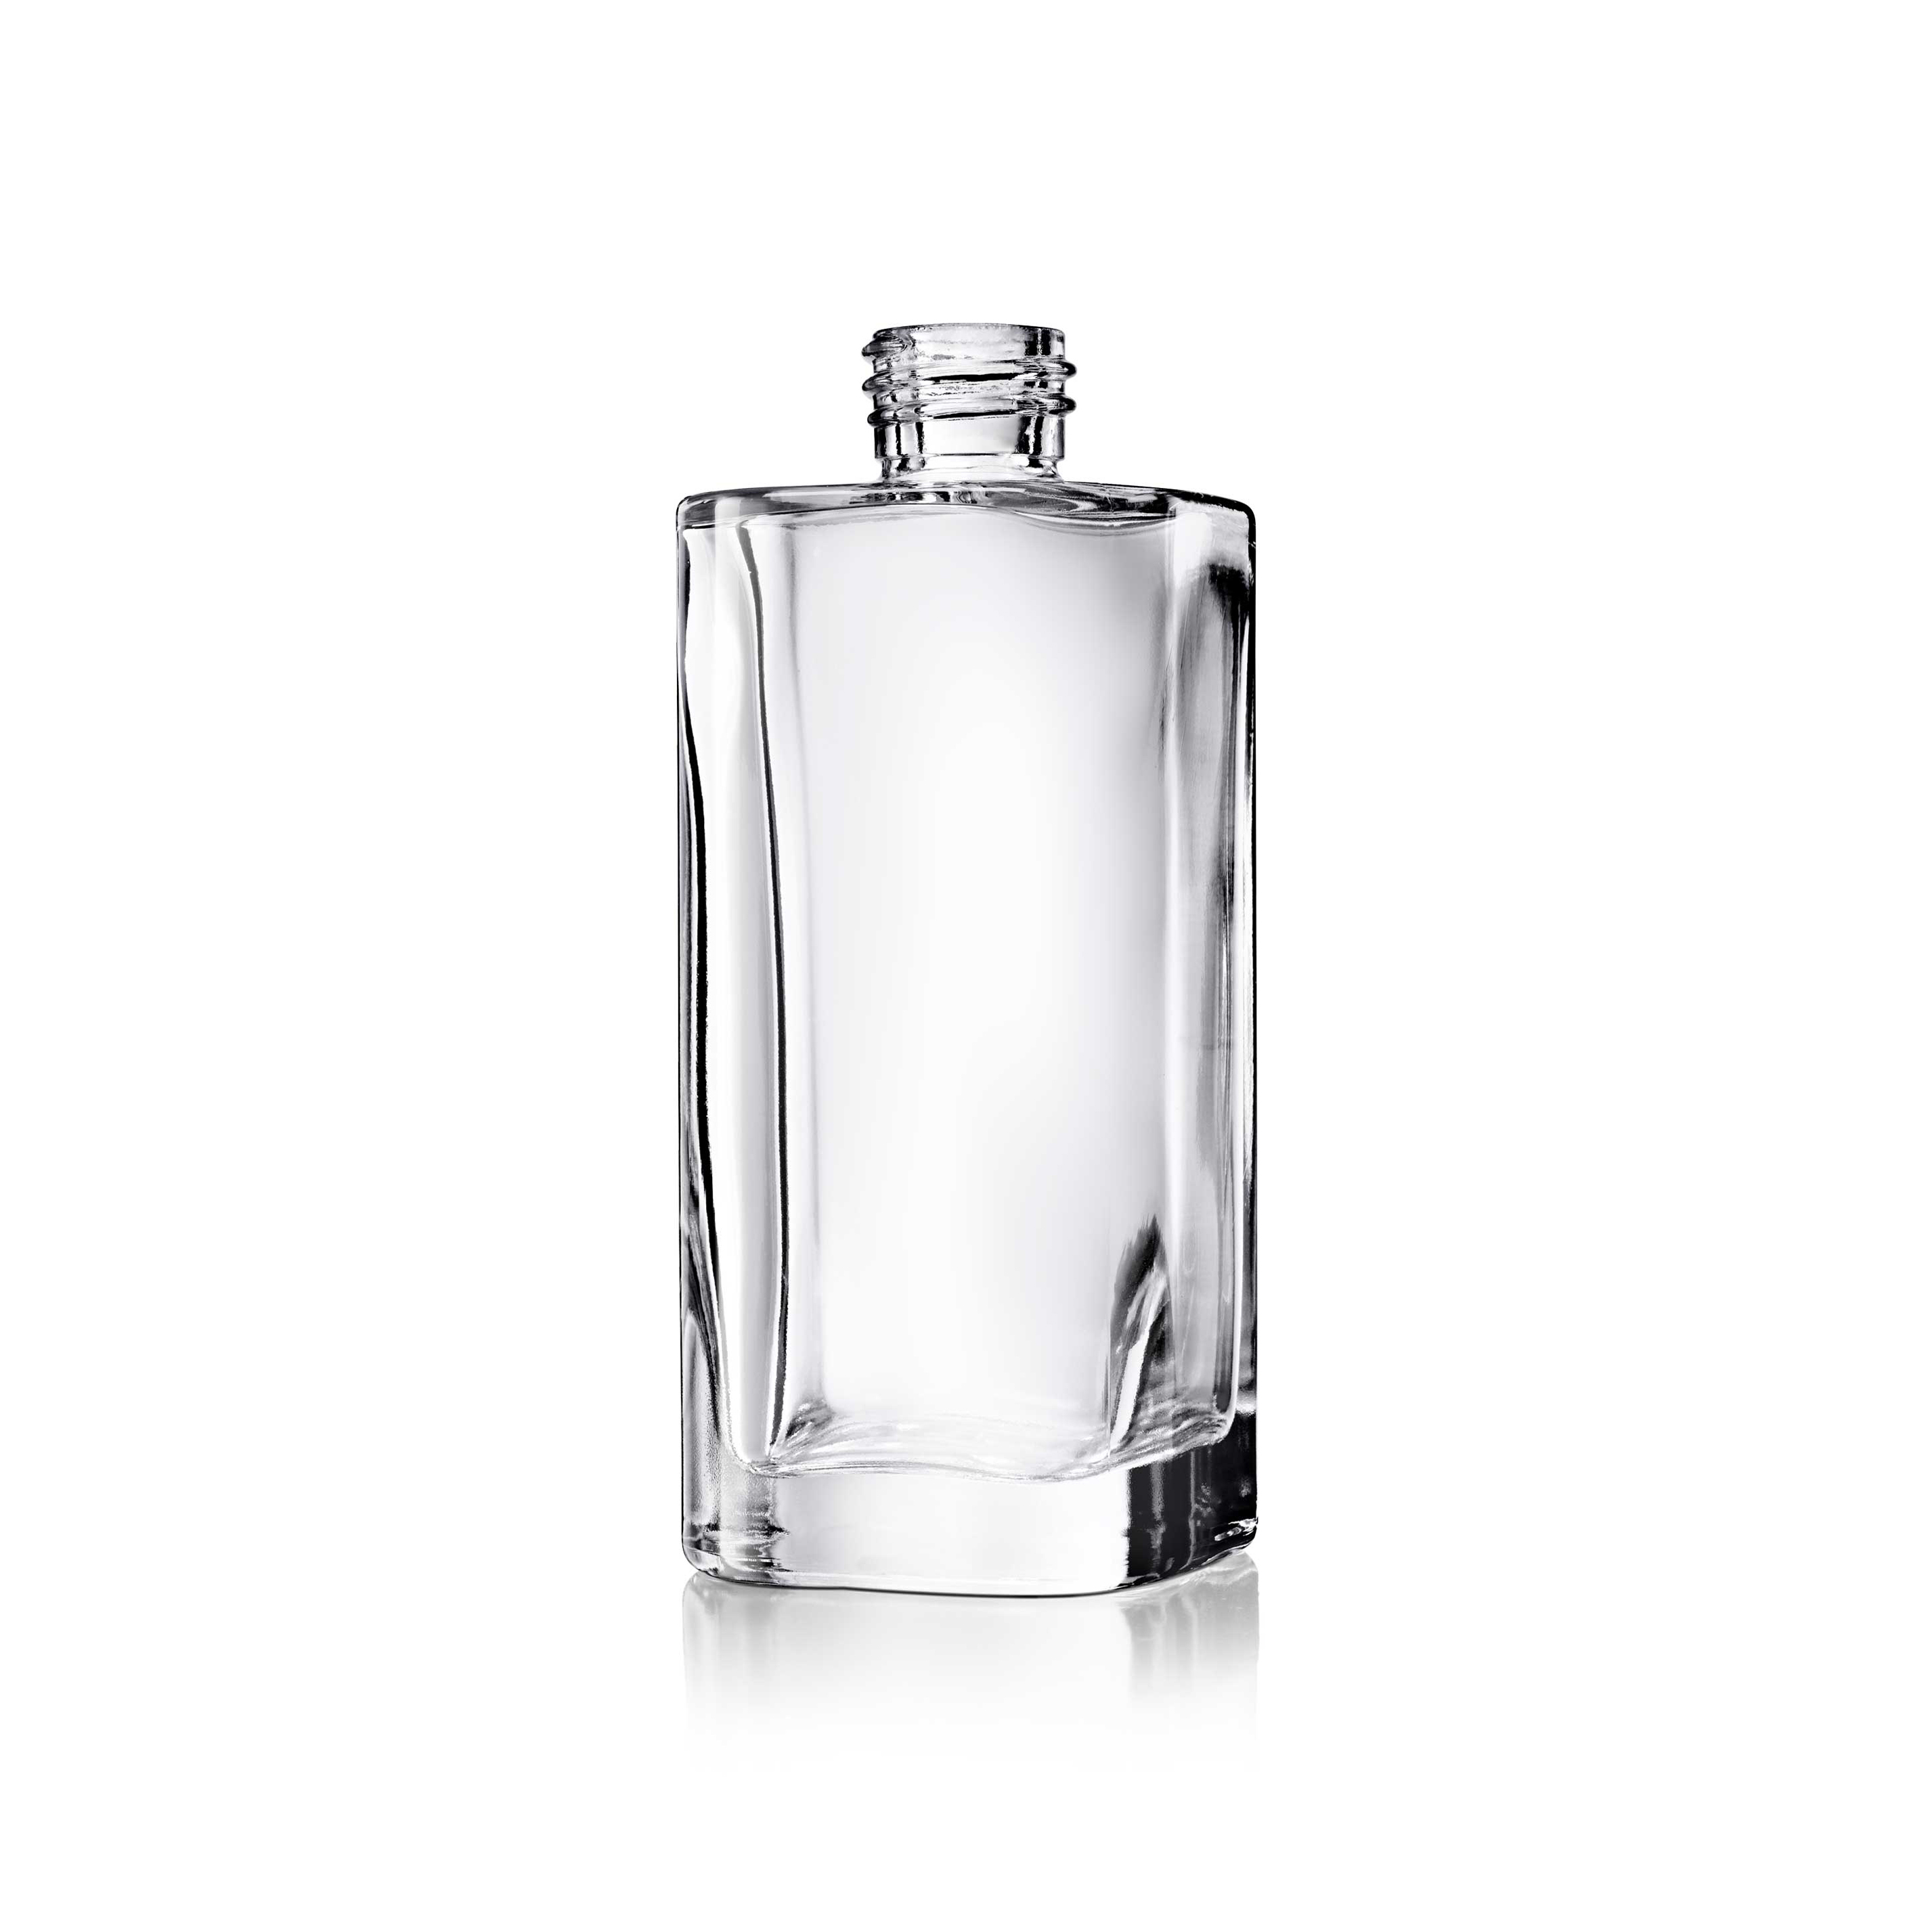glass_bottle: (619, 286, 1320, 1680)
